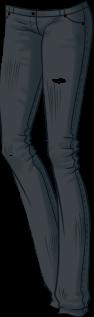Hemline: (58, 310, 90, 316)
Pantleg: (0, 6, 58, 308), (37, 2, 91, 316)
Waistline: (5, 0, 85, 12)
